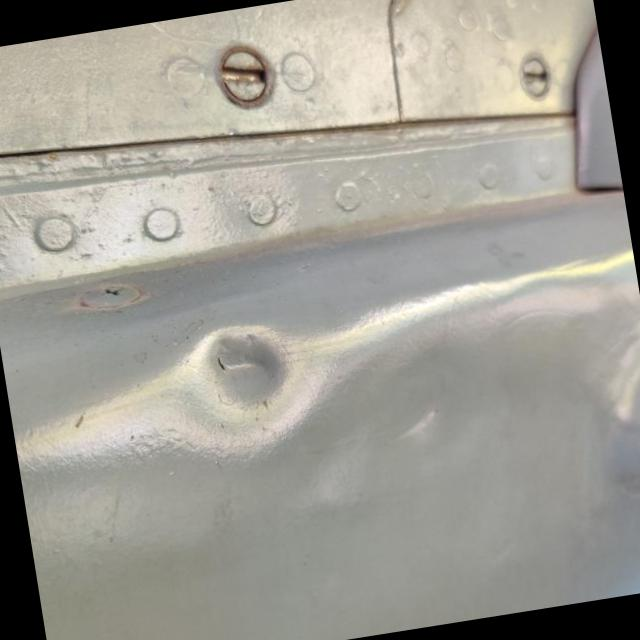Dent: (159, 315, 315, 441), (366, 381, 458, 477)
